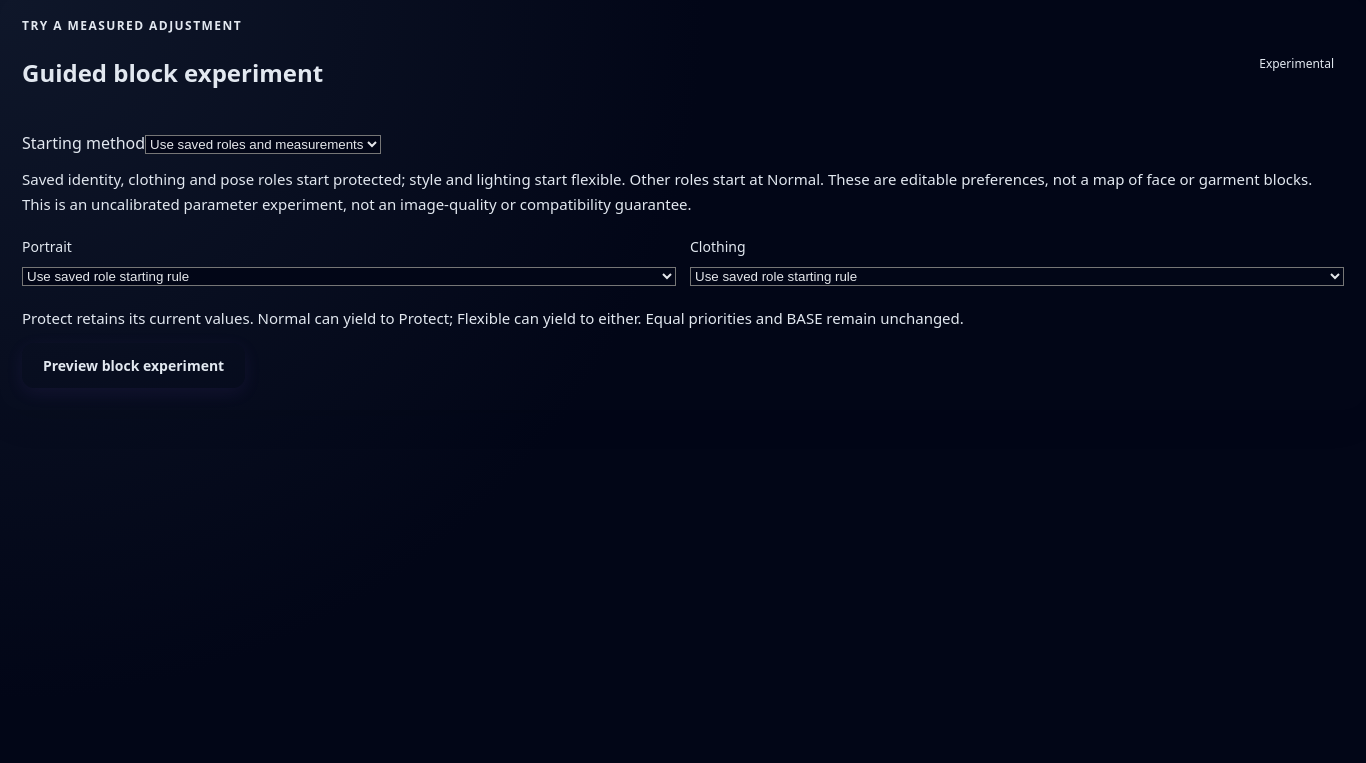
Scenario: guided experiments › uses saved roles by default and disables saving a no-change preview
Click the button "Preview block experiment".
click(134, 366)  # box [22,343,245,388]
(page scrolled)
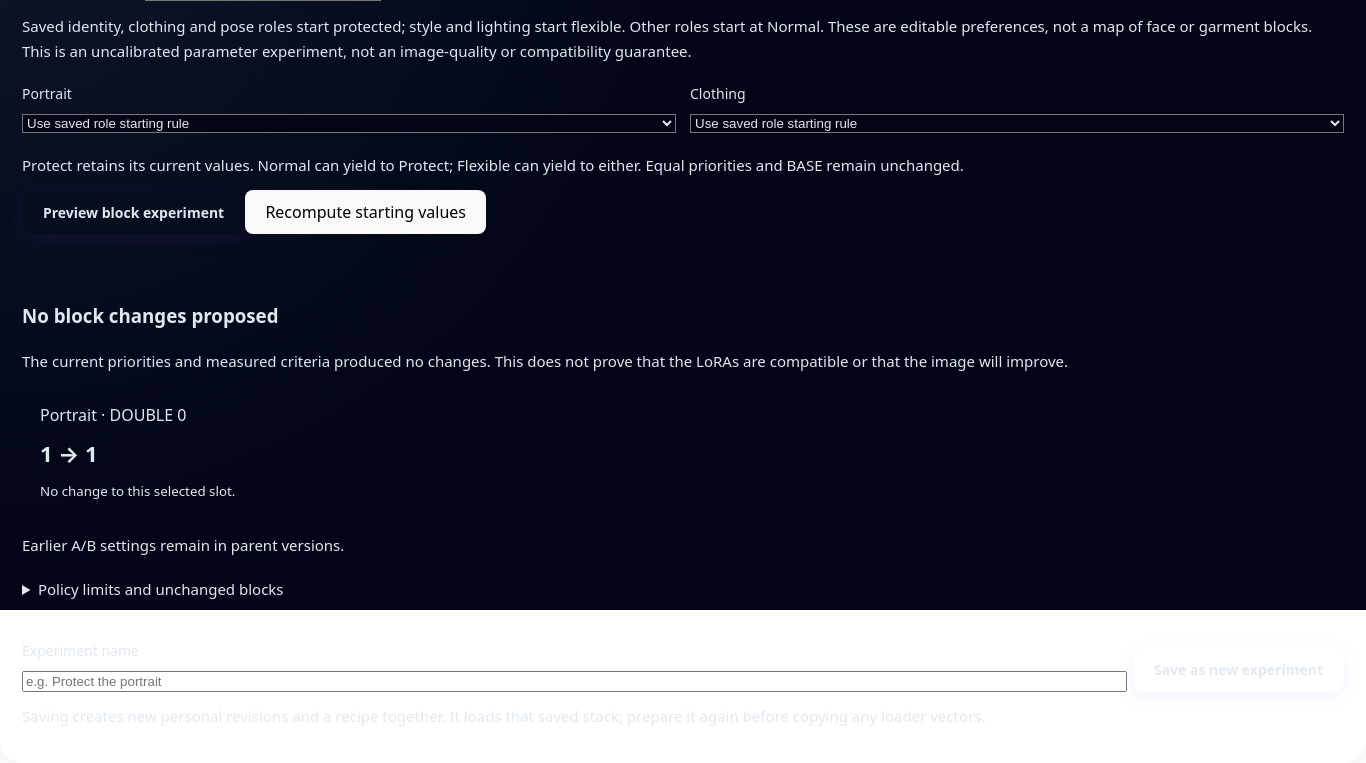
Expected: the heading "No block changes proposed" is shown, [22,303,278,328]
Expected: the button "Save as new experiment" is disabled, [1133,647,1344,692]
Expected: the text "does not prove that the LoRAs are compatible" is shown, [22,351,1068,371]
